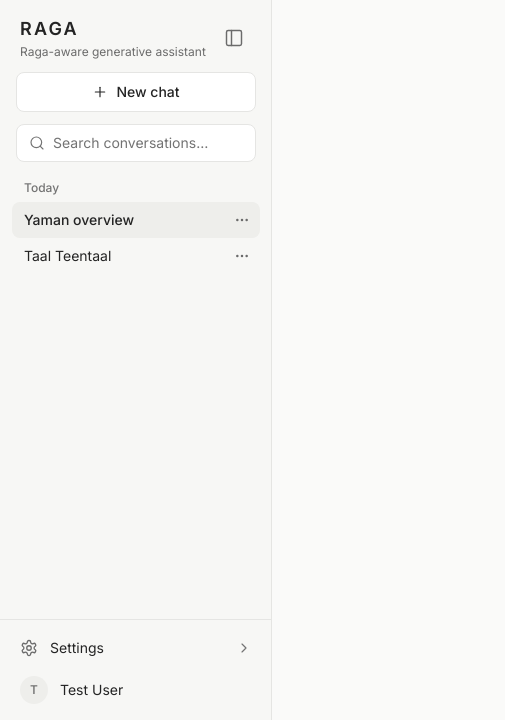
Test: Sidebar conversation menu › closes when clicking elsewhere
Click the button named "Options for Yaman overview": (242, 220) 228,206 -> 256,234
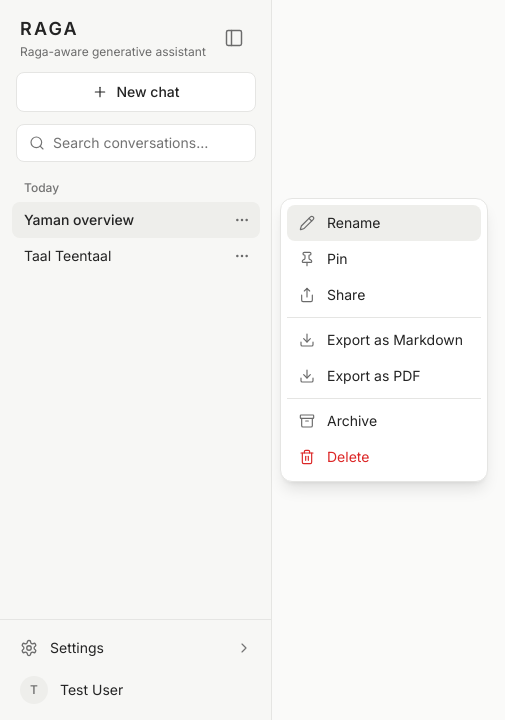
Click the field labelled "Search conversations": (148, 143) 53,133 -> 243,153
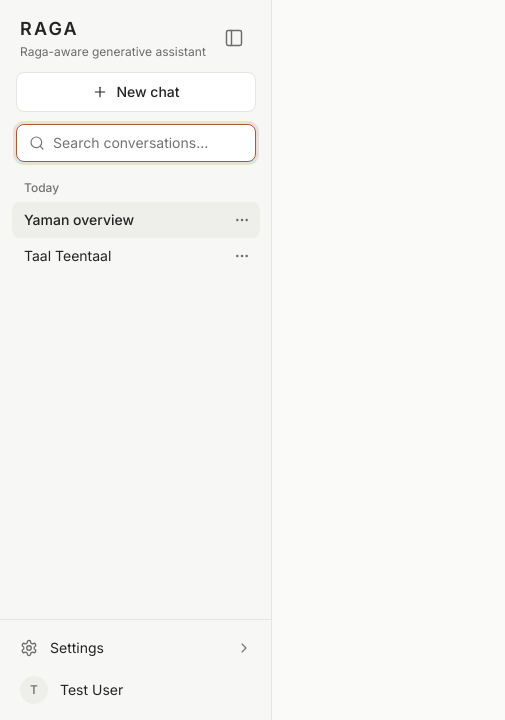
Now the menu is gone
